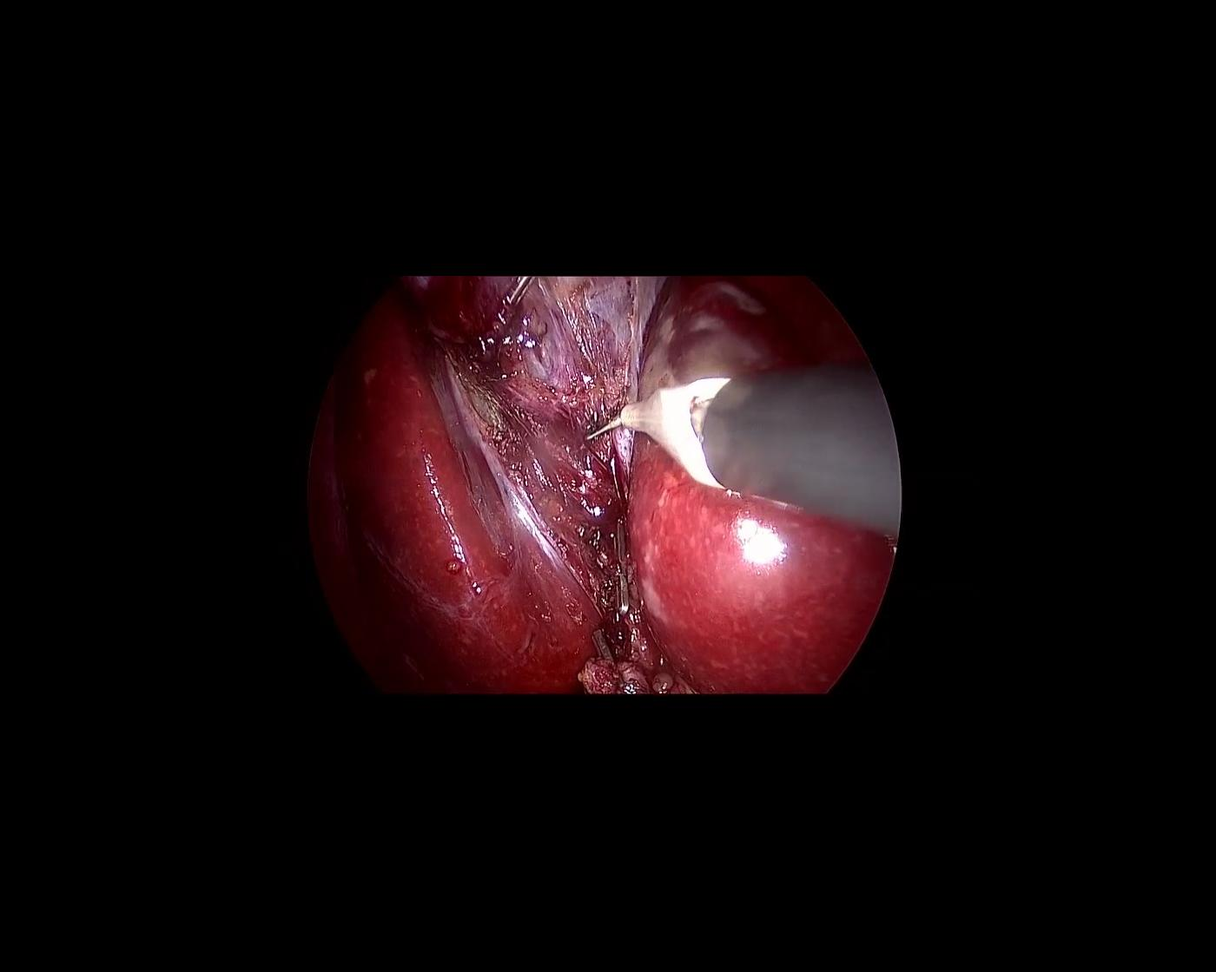Cautery: (571, 320, 928, 539)
Liver: (211, 286, 607, 770), (628, 278, 900, 692)
